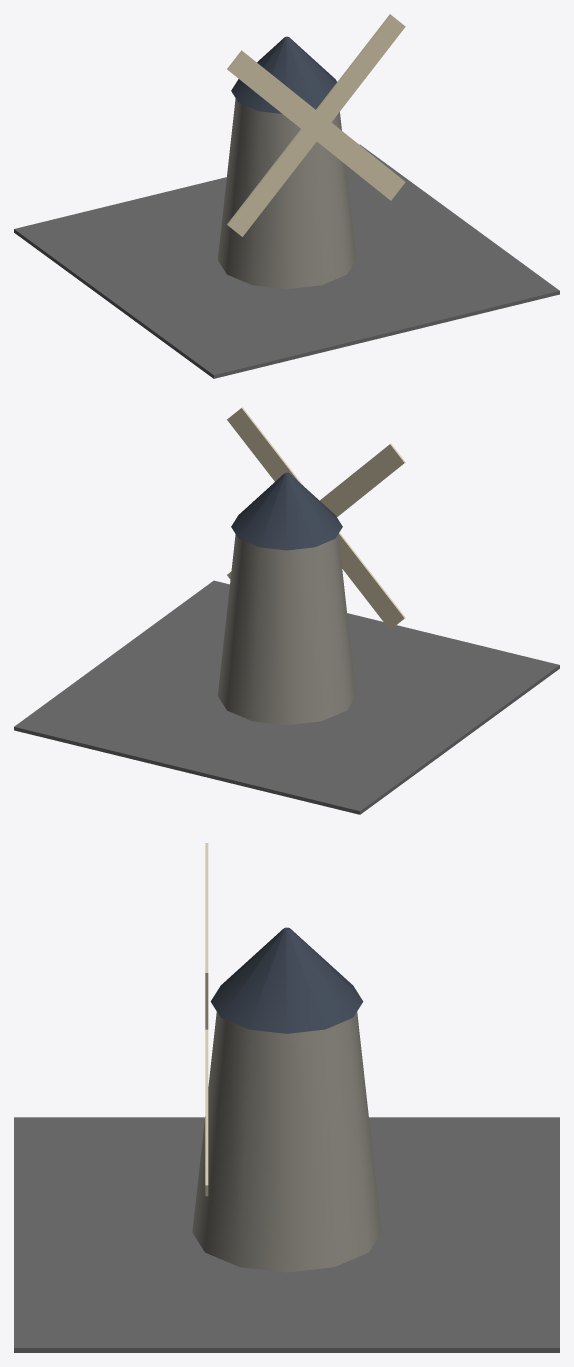
File: bld_special_power_plant_a03.glb
3 renders of one model, top to bottom at view 1: azimuth 30°, elevation 25°; view 2: azimuth 150°, elevation 25°; view 3: azimuth 270°, elevation 25°, orthographic. The views are drawn at different scales.
Visible parts, largest first — view 1: body, rotor; view 2: body, rotor; view 3: body, rotor.
Part boxes in pixels (x1,y1,x2,y2): body: (14,36,559,378); rotor: (227,14,405,236); body: (14,472,559,814); rotor: (227,407,405,629); body: (14,927,559,1352); rotor: (205,843,208,1196).
Size of what is drawn, in the model's own units: 15 by 10.45 by 15.
